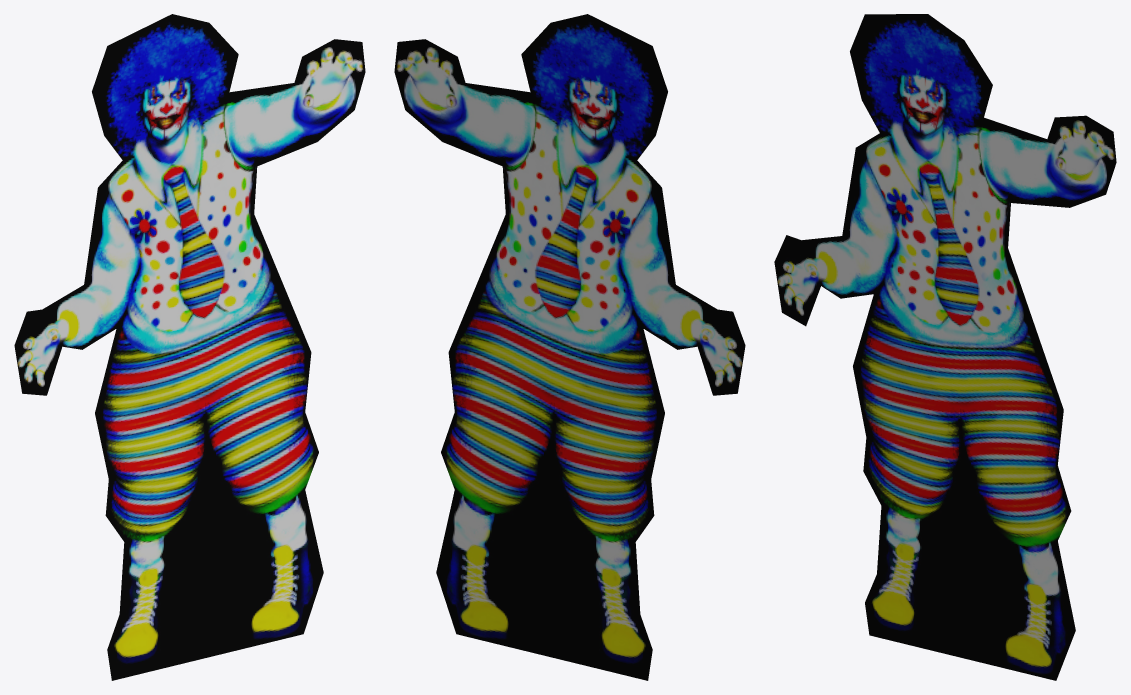
Rendered from monster-clown.obj.
The picture shows the model from 3 angles, left to right: view 1: azimuth 30°, elevation 25°; view 2: azimuth 150°, elevation 25°; view 3: azimuth 330°, elevation 25°; orthographic projection. The views are drawn at different scales.
Visible parts, largest first — view 1: Plane.001_Plane.007; view 2: Plane.001_Plane.007; view 3: Plane.001_Plane.007.
Part boxes in pixels (x1,y1,x2,y2): Plane.001_Plane.007: [14, 14, 365, 680]; Plane.001_Plane.007: [394, 14, 745, 680]; Plane.001_Plane.007: [774, 14, 1116, 680].
Size of the model in its own units: 2.75 by 4.88 by 0.
Materials: 1 (1 with a texture image).
